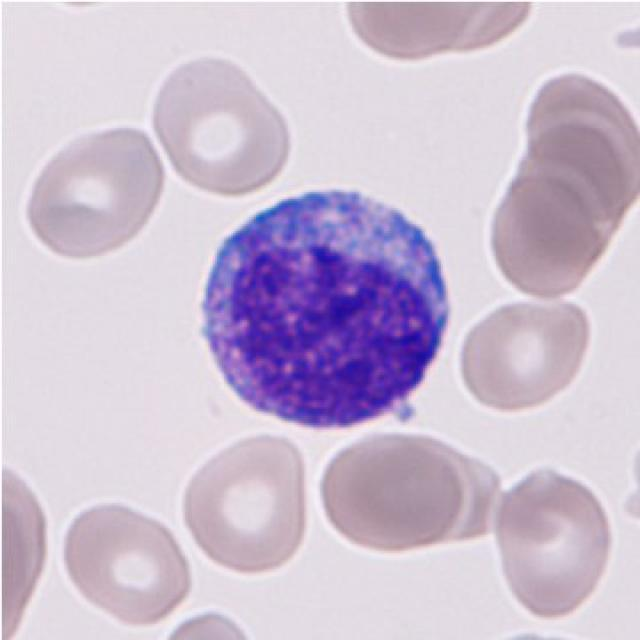Lymphocyte: (181, 169, 464, 448)
Platelets: (610, 13, 640, 59)
RBC: (146, 47, 295, 198), (486, 457, 621, 622), (18, 119, 169, 261), (313, 425, 471, 558), (176, 427, 315, 578), (55, 493, 196, 630), (517, 62, 640, 215), (455, 288, 596, 416), (484, 167, 614, 299), (334, 2, 544, 71), (151, 610, 267, 640)
